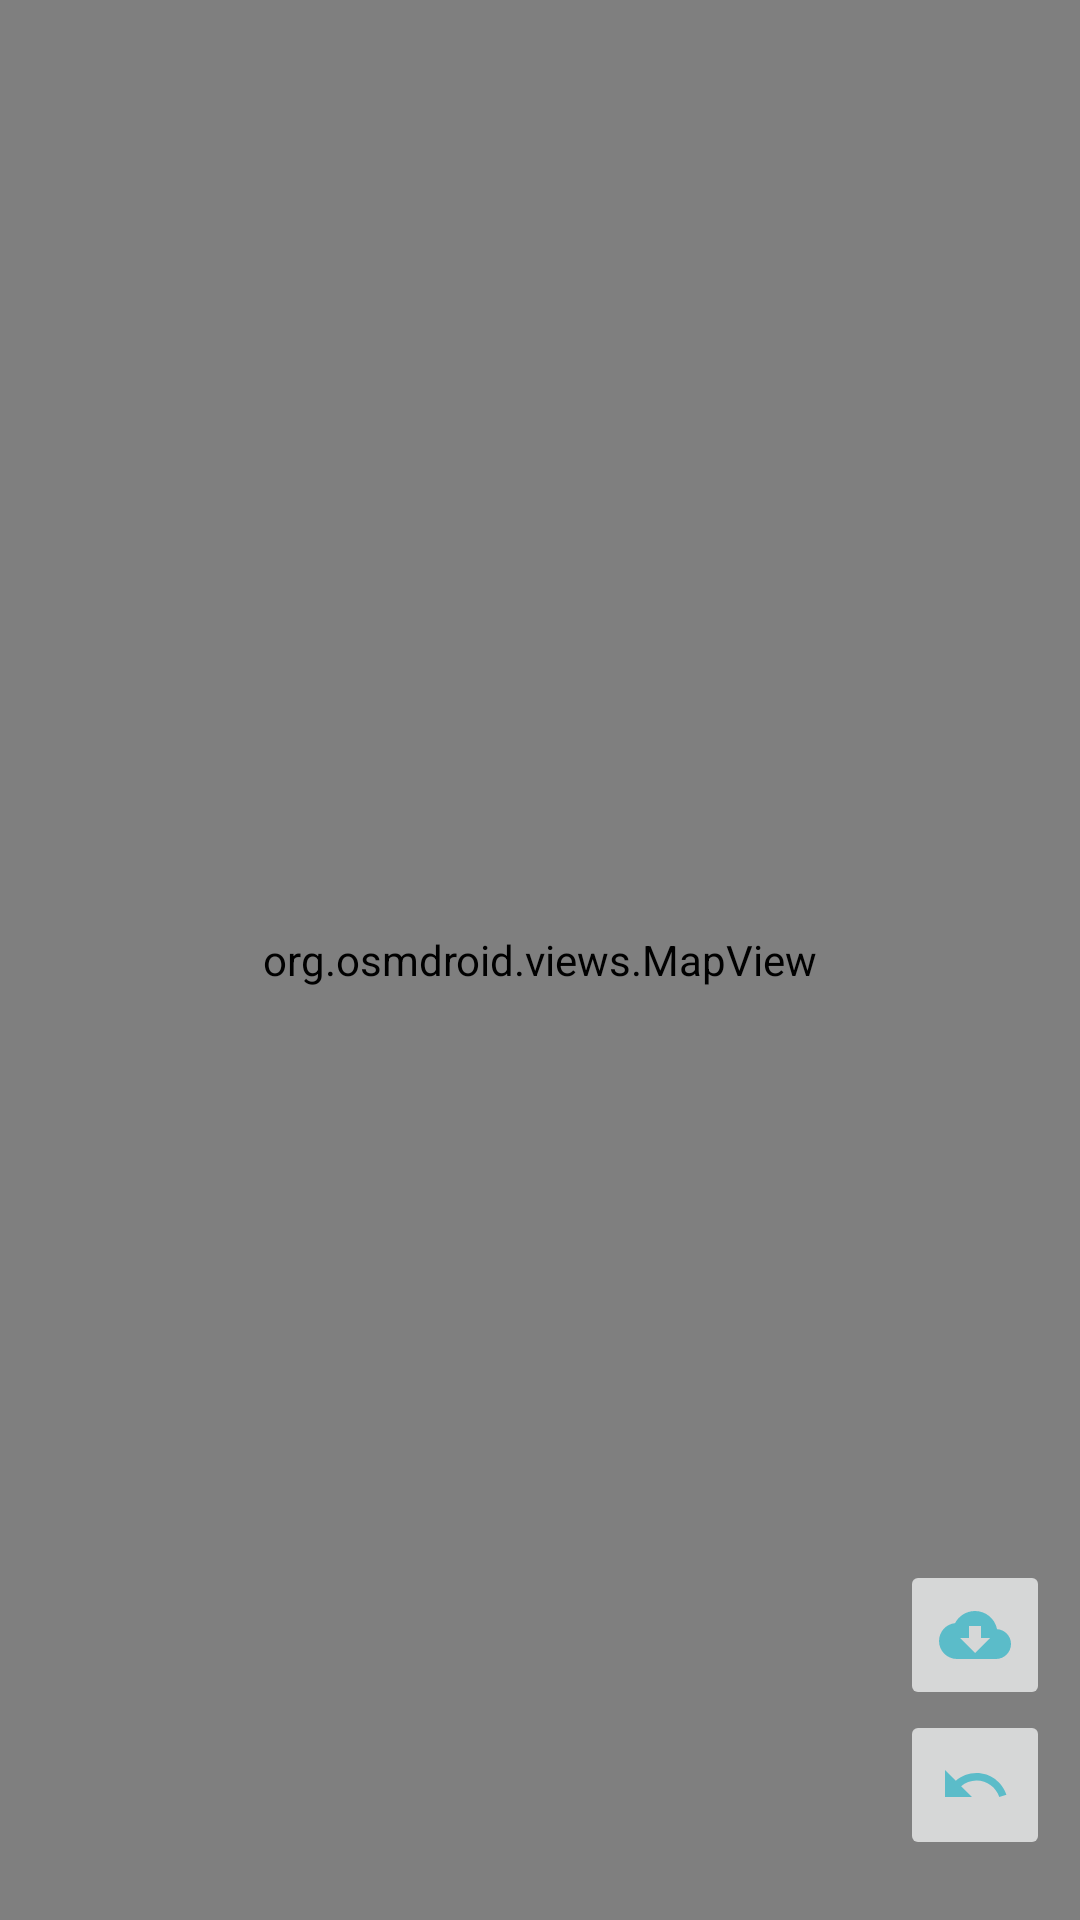

Locate icon controls on the screen. Image size 1080 x 1920, boxes as (x1,y1,x2,y2).
cloud download: (912,1578,1038,1692)
